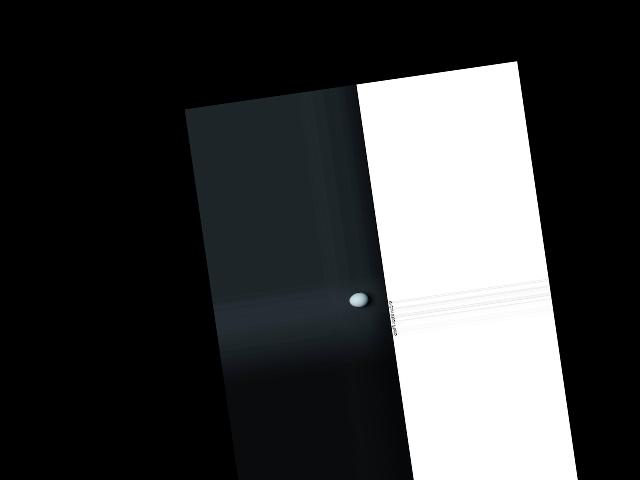egg: (348, 291, 369, 308)
